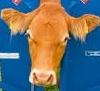muzzles: (26, 69, 58, 88)
